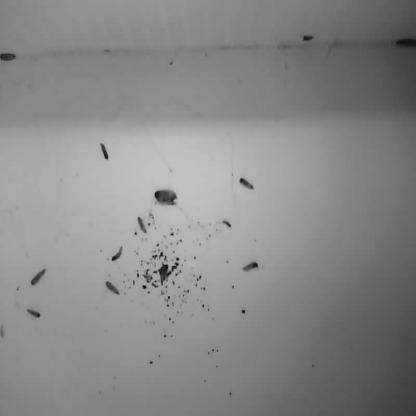PtecticusTenebrifer: (30, 266, 48, 286), (155, 190, 178, 204), (104, 281, 122, 298), (111, 245, 127, 264), (242, 260, 260, 274), (240, 177, 254, 192), (395, 38, 416, 48), (99, 142, 110, 161), (26, 307, 42, 320), (136, 218, 148, 235), (0, 51, 18, 62), (222, 218, 233, 230), (302, 35, 314, 42)
